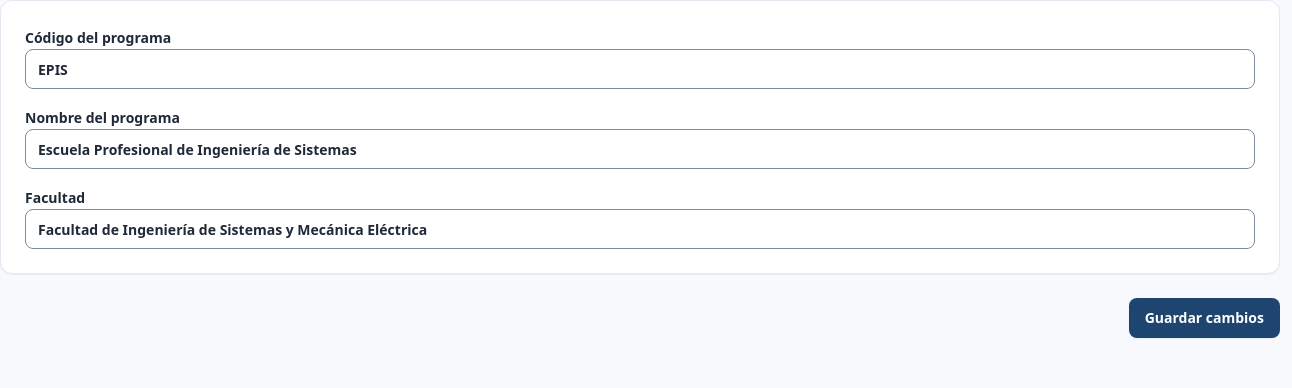
ProgramForm component (HU-009, T-009-17, CA1, CA2) › shows client-side validation error when input does not satisfy schema
This screenshot has width=1292, height=388.
Replace the text in the field labelled "Nombre del programa" with "ab": (640, 149) [25,129,1255,169]
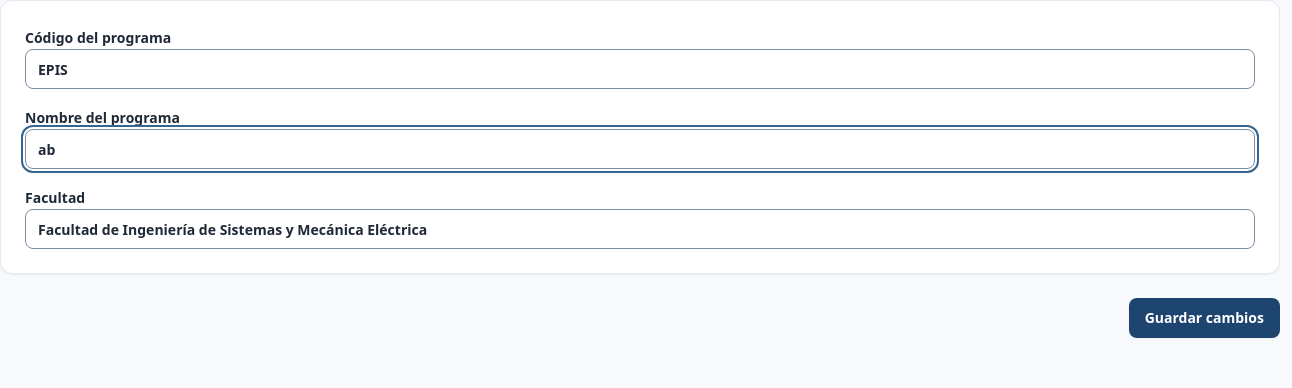
Click the button "Guardar cambios": click(1204, 318) [1129,298,1280,338]
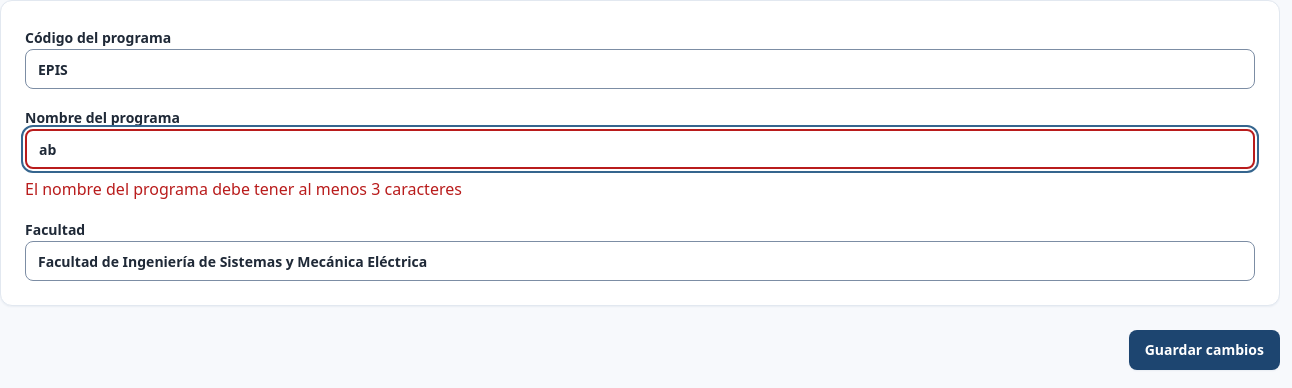
Result: the message "El nombre del programa debe tener al menos 3 caracteres" is shown at [25,178,462,200]
